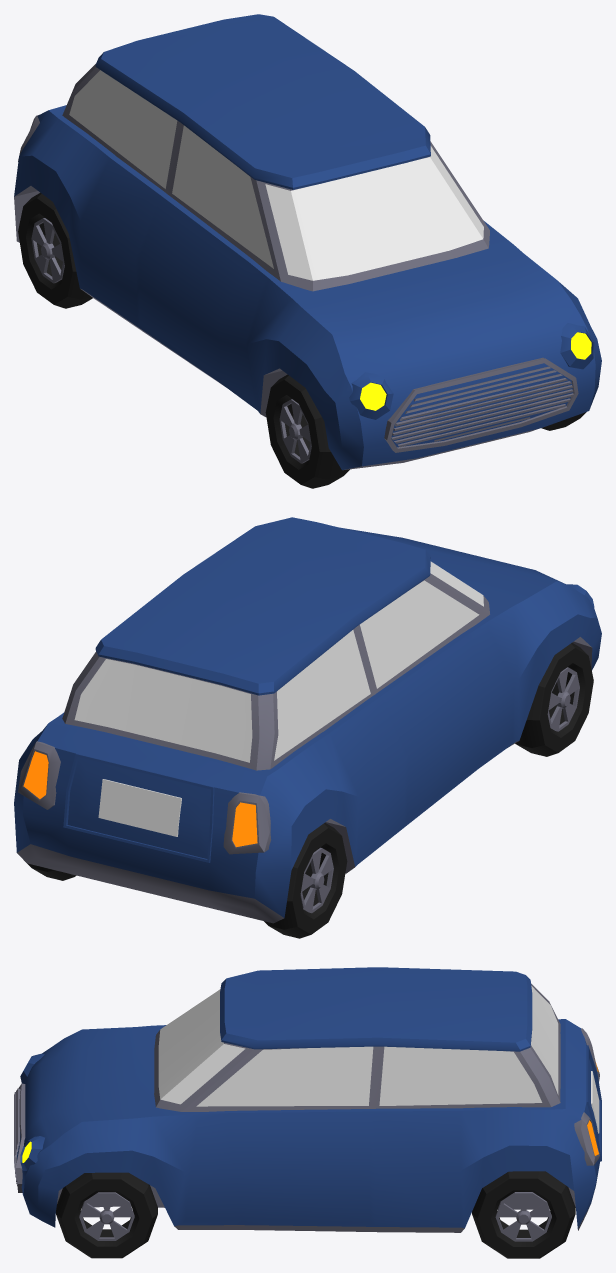
Rendered from Mini Cooper low poly.fbx.
3 renders of one model, top to bottom at view 1: azimuth 30°, elevation 25°; view 2: azimuth 150°, elevation 25°; view 3: azimuth 270°, elevation 25°, orthographic. The views are drawn at different scales.
Parts seen in each view (by area): view 1: Cube.003, Wheel.001; view 2: Cube.003, Wheel.001; view 3: Cube.003, Wheel.001.
Boxes of the visible parts, x1=… form: Cube.003: x1=14, y1=14, x2=601, y2=470; Wheel.001: x1=18, y1=192, x2=586, y2=488; Cube.003: x1=14, y1=517, x2=601, y2=923; Wheel.001: x1=24, y1=643, x2=593, y2=938; Cube.003: x1=14, y1=967, x2=601, y2=1232; Wheel.001: x1=56, y1=1171, x2=575, y2=1258.
Size of the model in its own units: 477 by 400 by 1035.
